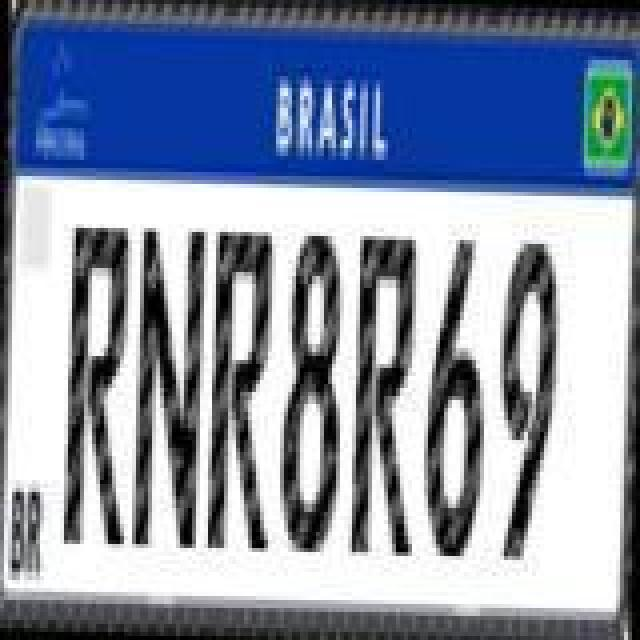6: (420, 232, 492, 568)
8: (276, 226, 348, 558)
9: (492, 234, 564, 566)
N: (128, 222, 208, 546)
R: (206, 224, 282, 560), (346, 232, 422, 560), (62, 222, 138, 546)
